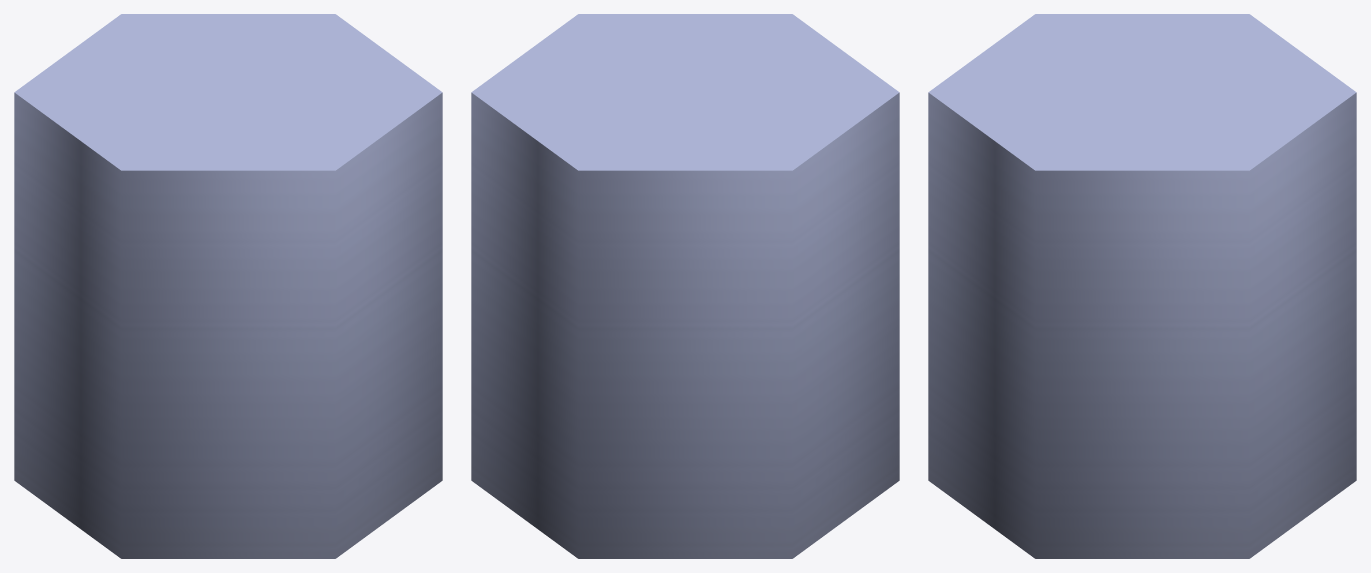
File: shape-hexagon.fbx
The picture shows the model from 3 angles, left to right: view 1: azimuth 30°, elevation 25°; view 2: azimuth 150°, elevation 25°; view 3: azimuth 270°, elevation 25°; orthographic projection.
Visible parts, largest first — view 1: shape-hexagon; view 2: shape-hexagon; view 3: shape-hexagon.
Part boxes in pixels (x1,y1,x2,y2): shape-hexagon: (14,14,442,558); shape-hexagon: (471,14,899,558); shape-hexagon: (928,14,1356,558).
Size of the model in its own units: 86.6 by 100 by 100.
